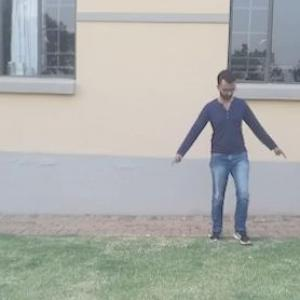land: (173, 59, 299, 264)
